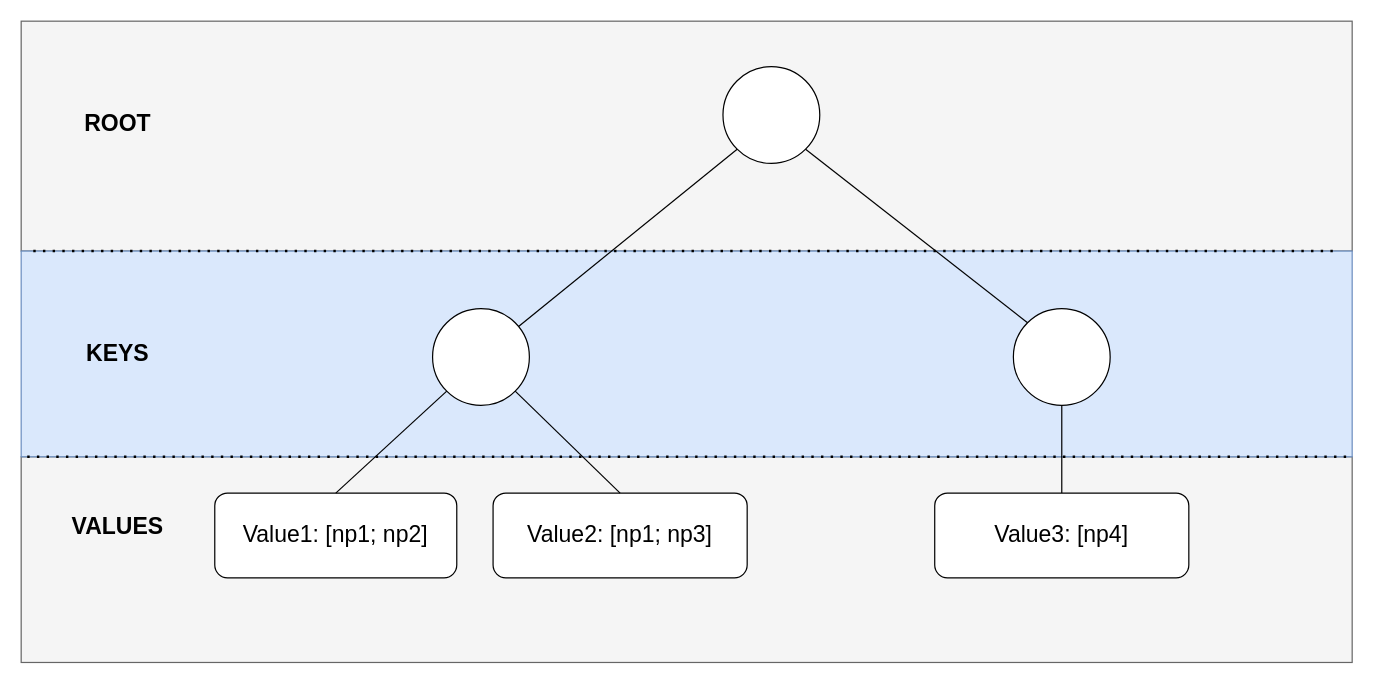
Some shapes in this 1373 by 684 pixel diagram are drawn without their labels. Each missing label, with the centre of its shape:
"Key1" belongs at (480,356).
"Key2" belongs at (1061,356).
